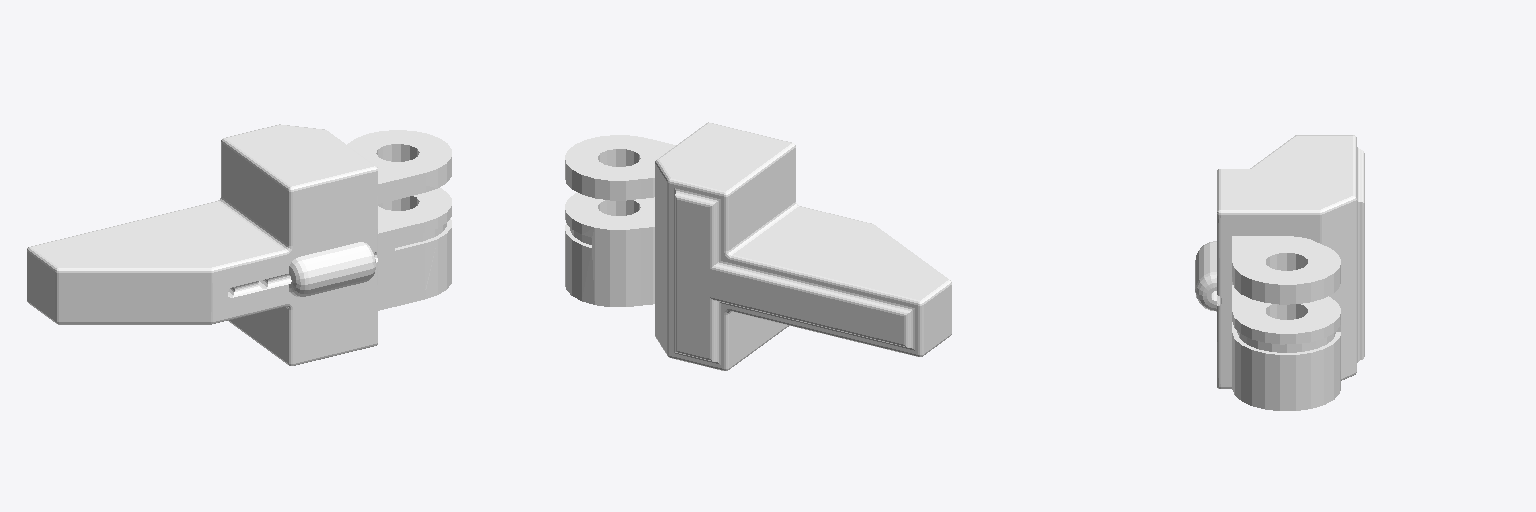
File: gripper_left_distal_link.obj
The picture shows the model from 3 angles: view 1: azimuth 30°, elevation 25°; view 2: azimuth 150°, elevation 25°; view 3: azimuth 270°, elevation 25°; orthographic projection.
Visible parts, largest first — view 1: shape0.009; view 2: shape0.009; view 3: shape0.009.
Part boxes in pixels (left/top/right/bottom): shape0.009: left=27, top=124, right=451, bottom=365; shape0.009: left=565, top=122, right=951, bottom=370; shape0.009: left=1195, top=135, right=1364, bottom=410.
Bounding box in the file's own units: 0.057 × 0.0254 × 0.0217.